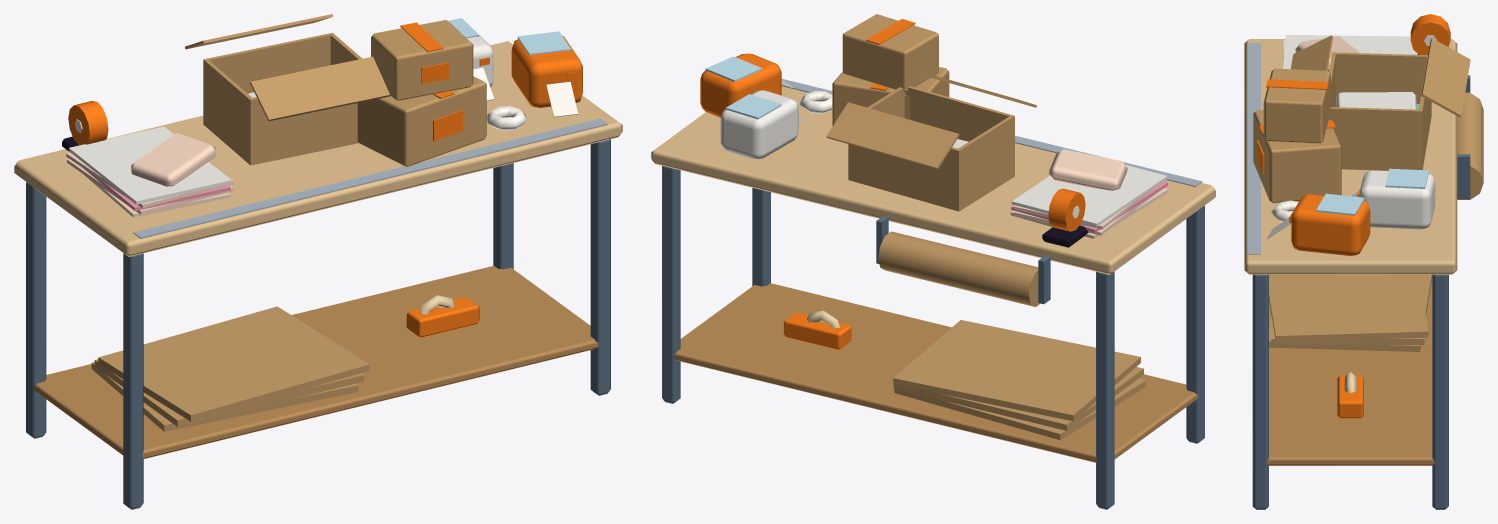
File: station_processing_2.glb
The picture shows the model from 3 angles, left to right: view 1: azimuth 30°, elevation 25°; view 2: azimuth 150°, elevation 25°; view 3: azimuth 270°, elevation 25°; orthographic projection. The views are drawn at different scales.
Parts seen in each view (by area): view 1: station_processing_2; view 2: station_processing_2; view 3: station_processing_2.
Part boxes in pixels (x1,y1,x2,y2): station_processing_2: (14, 14, 622, 509); station_processing_2: (651, 14, 1215, 509); station_processing_2: (1244, 14, 1483, 509).
Size of the model in its own units: 1.6 by 1.17 by 0.72.
